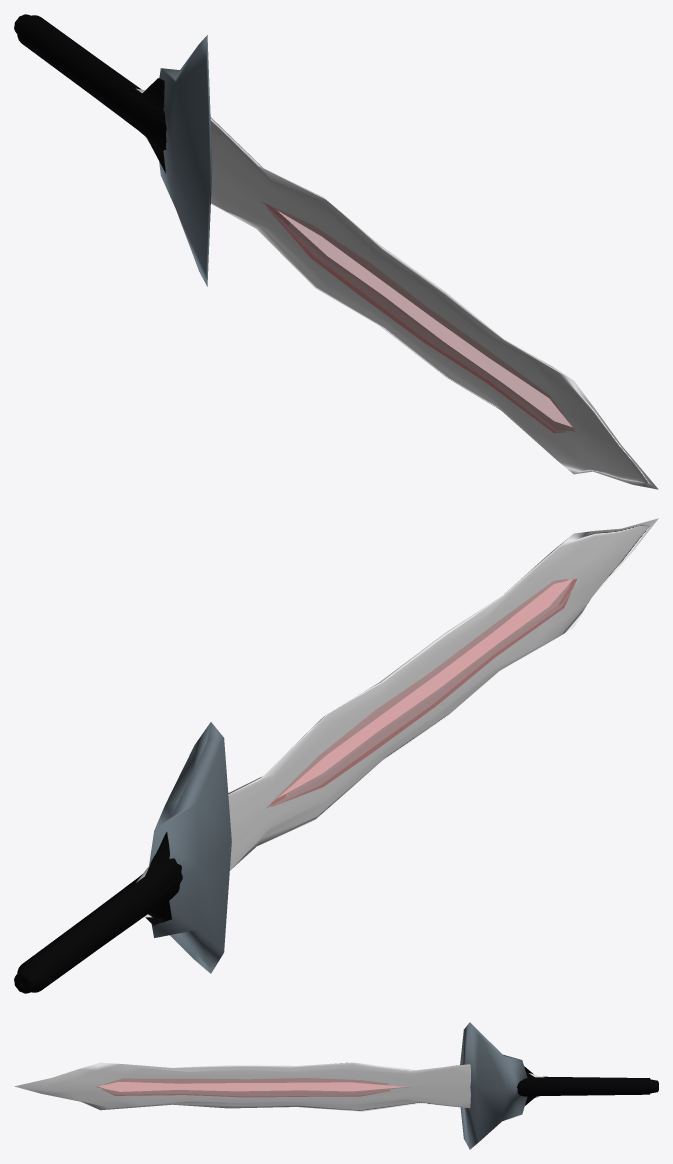
The model's file is swordCustom.fbx.
3 views of the same model, one above another, from view 1: azimuth 30°, elevation 25°; view 2: azimuth 150°, elevation 25°; view 3: azimuth 270°, elevation 25° (orthographic). The views are drawn at different scales.
Parts seen in each view (by area): view 1: Cube, Cube.001, Cylinder.001, Cylinder; view 2: Cube, Cylinder.001, Cube.001, Cylinder; view 3: Cube, Cylinder.001, Cube.001, Cylinder.
Boxes of the visible parts, x1,y1,x2,y2 form: Cube: (136, 88, 658, 489); Cube.001: (263, 202, 574, 432); Cylinder.001: (159, 35, 212, 286); Cylinder: (14, 14, 166, 173); Cube: (136, 518, 658, 917); Cylinder.001: (149, 722, 231, 973); Cube.001: (267, 579, 576, 807); Cylinder: (14, 832, 182, 993); Cube: (14, 1062, 543, 1111); Cylinder.001: (460, 1022, 527, 1149); Cube.001: (97, 1078, 404, 1096); Cylinder: (517, 1066, 658, 1105).
Bounding box in the file's own units: 0.2464 × 2 × 9.13.
